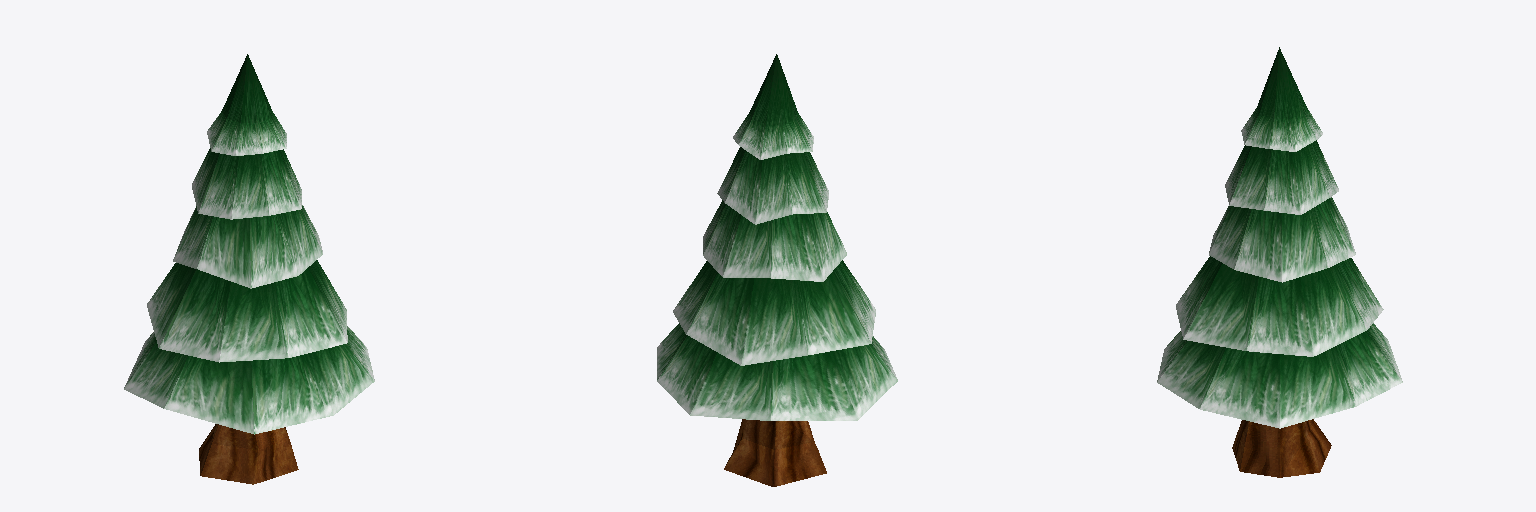
3 views of the same model, side by side, from view 1: azimuth 30°, elevation 25°; view 2: azimuth 150°, elevation 25°; view 3: azimuth 270°, elevation 25° (orthographic).
Visible parts, largest first — view 1: Mesh; view 2: Mesh; view 3: Mesh.
Part boxes in pixels (x1,y1,x2,y2): Mesh: (124, 54, 374, 484); Mesh: (657, 54, 897, 486); Mesh: (1157, 47, 1402, 477).
Size of the model in its own units: 2.08 by 3.66 by 2.
Materials: 2 (2 with a texture image).